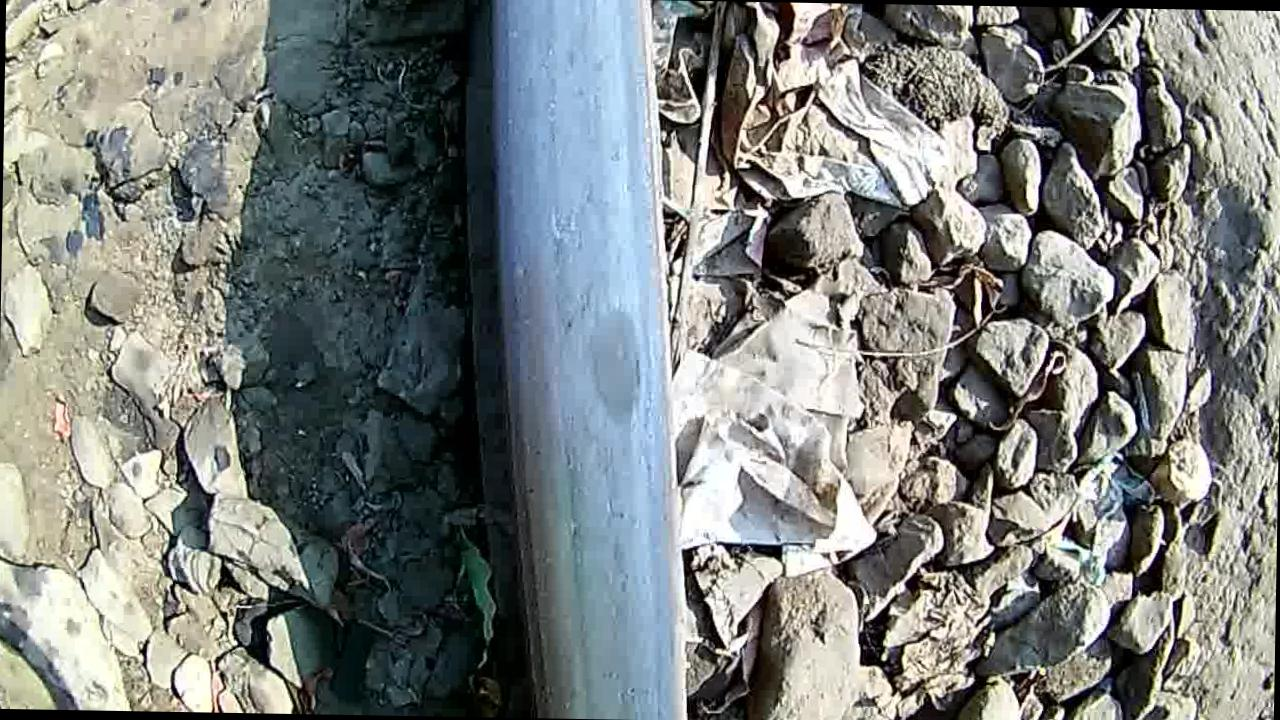bolt_missing: (548, 273, 683, 459)
